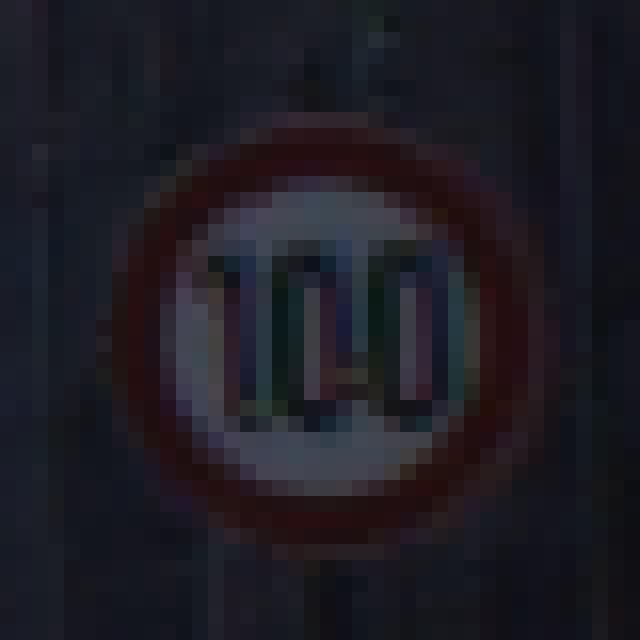Ograniczenie predkosci do 100: (113, 124, 530, 544)
